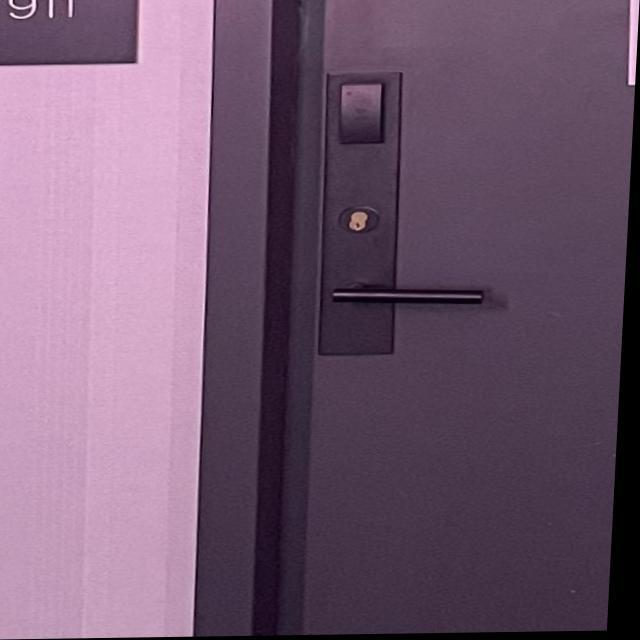door_handle: (313, 268, 511, 324)
